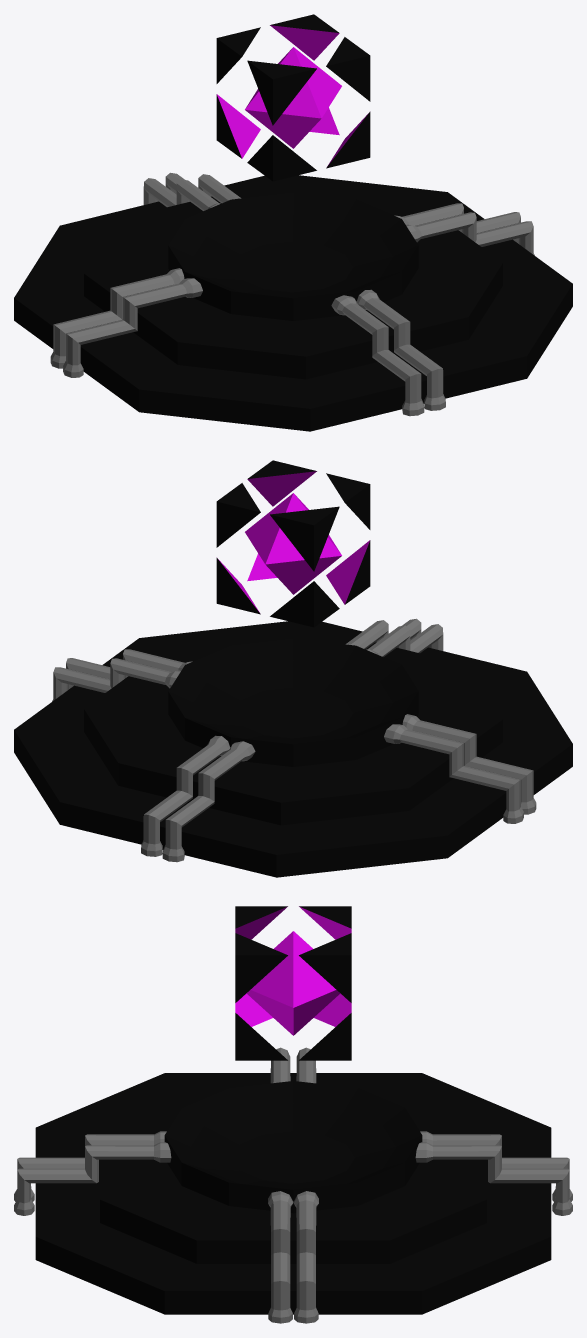
The model's file is ReactorCore.glb.
3 renders of one model, top to bottom at view 1: azimuth 30°, elevation 25°; view 2: azimuth 150°, elevation 25°; view 3: azimuth 270°, elevation 25°, orthographic. The views are drawn at different scales.
Parts seen in each view (by area): view 1: Cube.001, Cube.002, Cylinder.001, Cube, Cone.001, Plane.010, Plane.013, Plane.012, Plane.011, Plane.002, Plane.003, Plane.008 (+1 smaller); view 2: Cube.001, Cube.002, Cylinder.001, Cube, Cone.001, Plane.011, Plane.003, Plane.009, Plane.010, Plane.008, Plane.013, Plane.002 (+1 smaller); view 3: Cube.001, Cube.002, Cylinder.001, Cube, Cone.001, Plane.009, Plane.012, Plane.002, Plane.008, Plane.003, Plane.013, Plane.010 (+1 smaller).
Part boxes in pixels (x1,y1,x2,y2): Cube.001: (14, 175, 572, 431); Cube.002: (84, 179, 502, 379); Cylinder.001: (168, 192, 418, 320); Cube: (216, 14, 370, 181); Cone.001: (245, 47, 341, 148); Plane.010: (63, 278, 202, 377); Plane.013: (331, 295, 424, 416); Plane.012: (356, 289, 445, 410); Plane.011: (50, 268, 184, 368); Plane.002: (406, 212, 534, 255); Plane.003: (143, 178, 220, 210); Plane.008: (394, 203, 520, 243); Cube.001: (14, 621, 572, 877); Cube.002: (84, 625, 502, 825); Cylinder.001: (168, 638, 418, 766); Cube: (216, 460, 370, 627); Cone.001: (245, 493, 341, 594); Plane.011: (384, 724, 523, 823); Plane.003: (162, 741, 255, 862); Plane.009: (141, 735, 230, 856); Plane.010: (402, 714, 536, 814); Plane.008: (52, 658, 180, 701); Plane.013: (366, 624, 443, 656); Plane.002: (66, 649, 192, 689); Cube.001: (35, 1073, 551, 1314); Cube.002: (100, 1077, 486, 1263); Cylinder.001: (164, 1081, 422, 1213); Cube: (235, 906, 351, 1060); Cone.001: (246, 931, 340, 1035); Plane.009: (415, 1142, 572, 1215); Plane.012: (14, 1142, 171, 1215); Plane.002: (268, 1191, 293, 1323); Plane.008: (293, 1191, 318, 1323); Plane.003: (420, 1131, 572, 1201); Plane.013: (14, 1131, 166, 1201); Plane.010: (270, 1047, 290, 1083).
Size of the model in its own units: 21.67 by 11.75 by 21.67.
